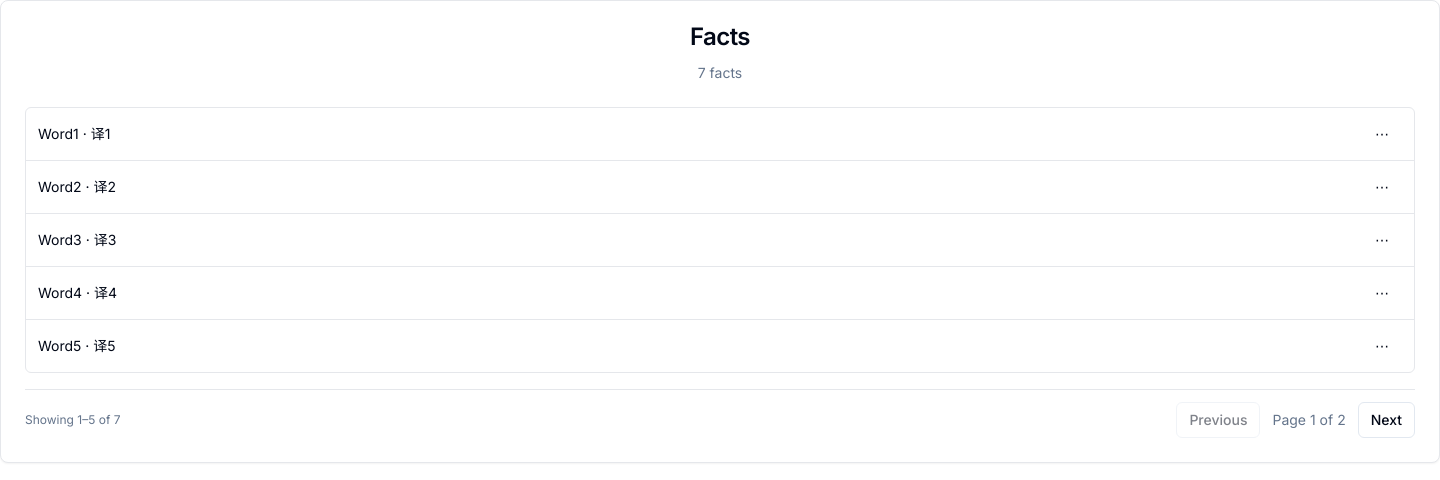
Test: FactsList › pagination › navigates to the next page when Next is clicked
Click the button "Next" at (1386, 420), box [1358,402,1415,438]
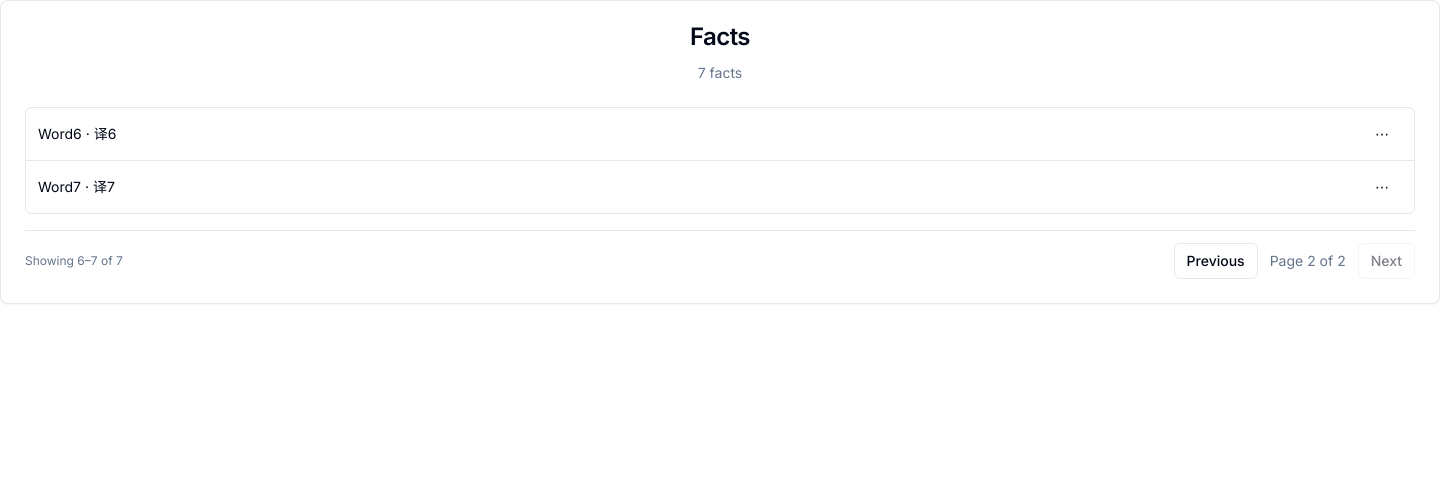
Check: the text "Page 2 of 2" is shown, box [1270,252,1346,269]
Check: the text "Word6 · 译6" is shown, box [38,125,116,142]
Check: the text "Word1" is gone
